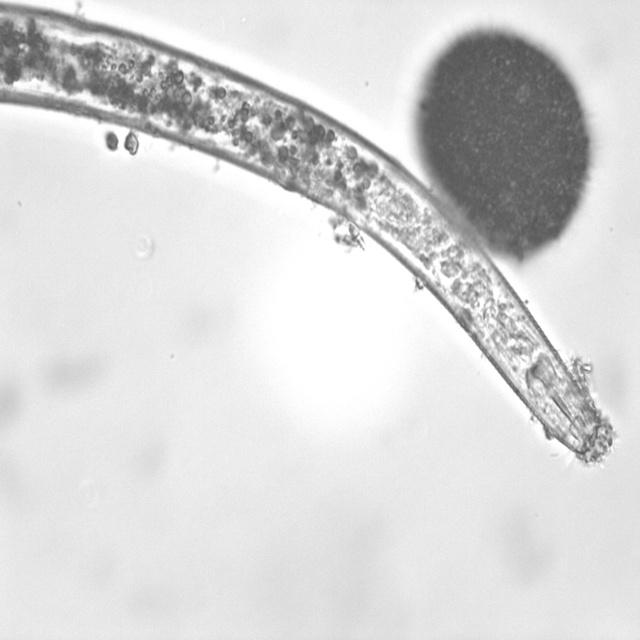Helicotylenchus: (0, 1, 600, 463)
